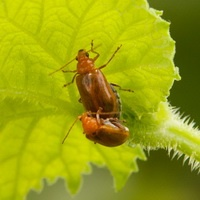insect: (50, 40, 132, 146)
